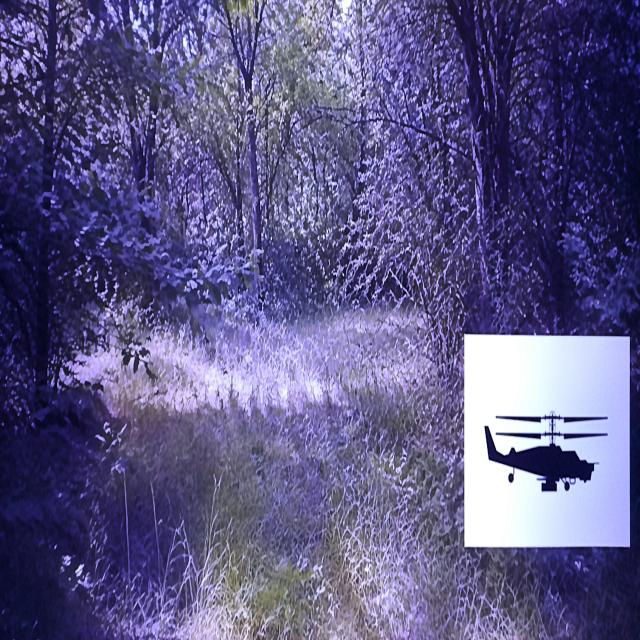Ka-52 Enemy: (485, 412, 607, 491)
